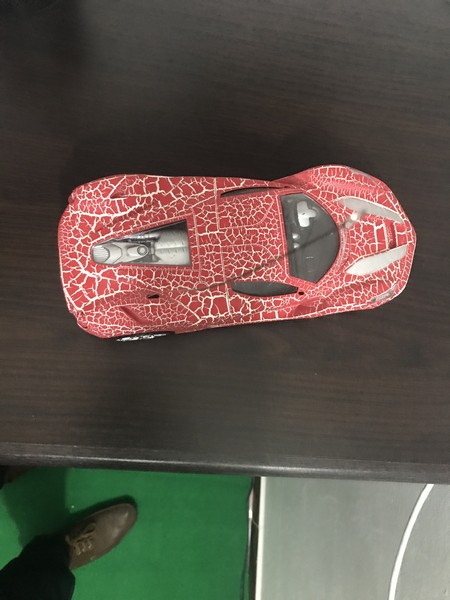RC: (52, 162, 417, 346)
